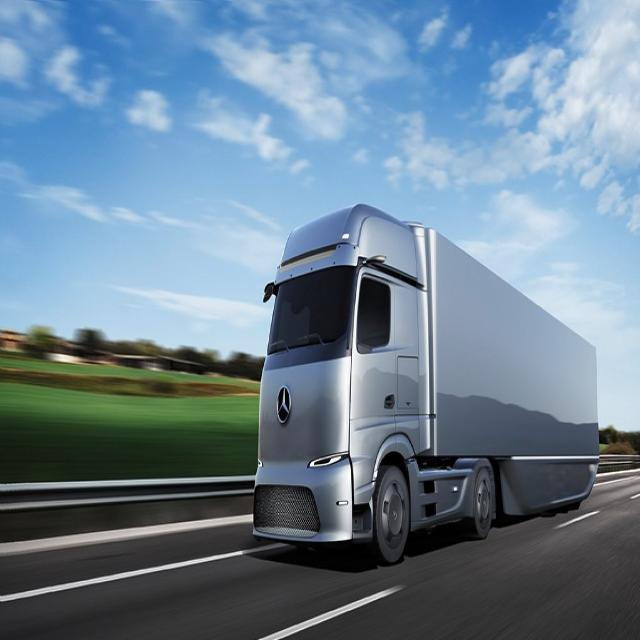Heavy Duty Truck: (249, 198, 607, 571)
